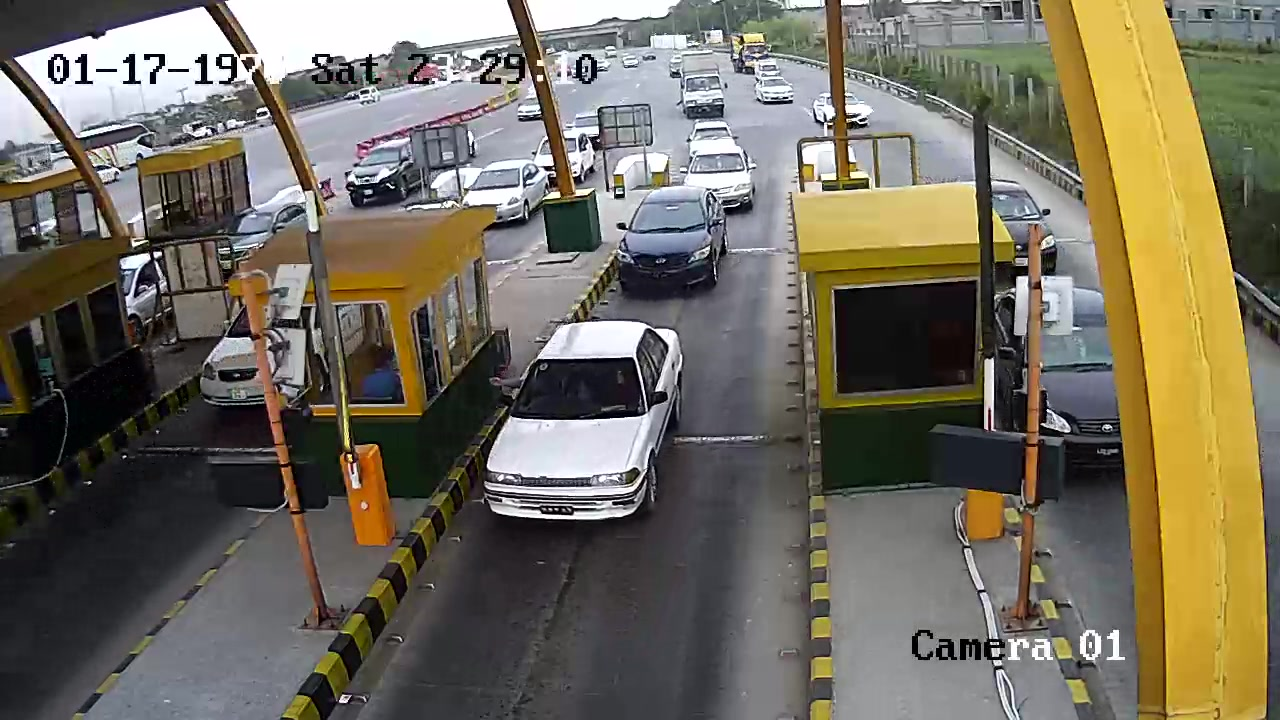F1: (479, 312, 695, 532)
